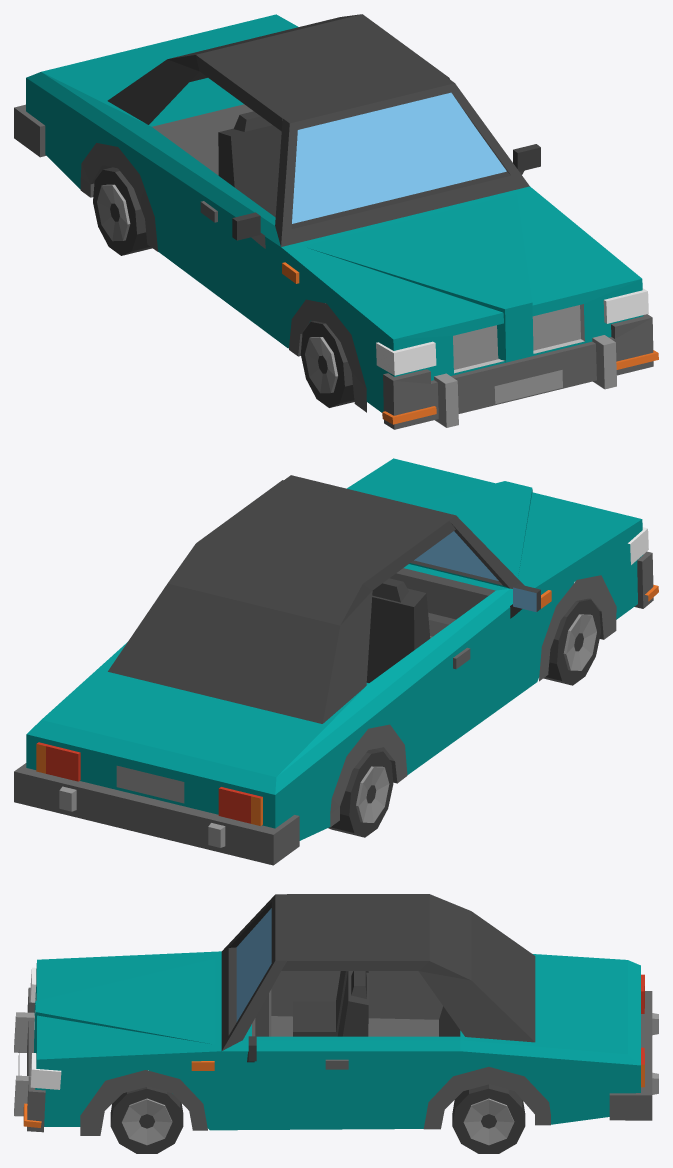
Rendered from Car_1.fbx.
3 renders of one model, top to bottom at view 1: azimuth 30°, elevation 25°; view 2: azimuth 150°, elevation 25°; view 3: azimuth 270°, elevation 25°, orthographic. The views are drawn at different scales.
Parts seen in each view (by area): view 1: Car_1; view 2: Car_1; view 3: Car_1.
Part boxes in pixels (x1,y1,x2,y2): Car_1: (14,14,658,429); Car_1: (14,458,658,865); Car_1: (14,894,658,1153).
Size of the model in its own units: 1.03 by 0.6915 by 2.31.
